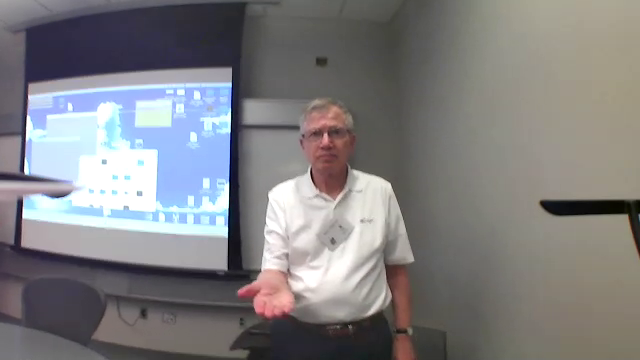land: (233, 270, 308, 325)
